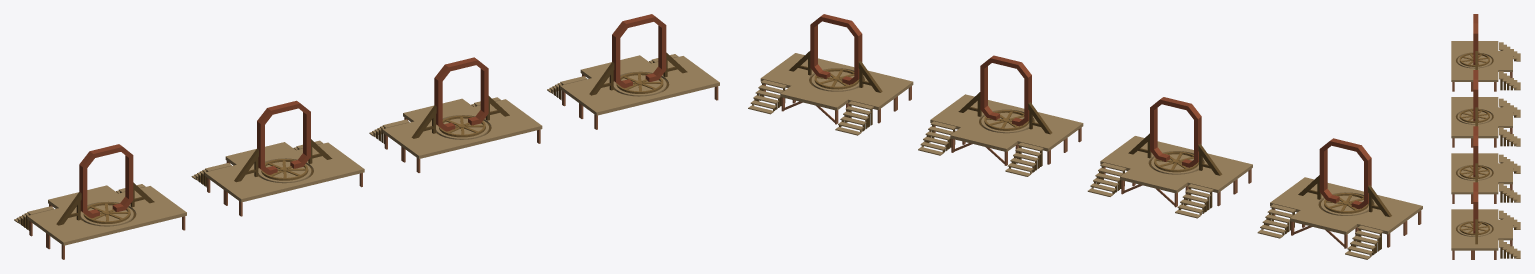
Rendered from D8_Teletransportation.fbx.
The picture shows the model from 3 angles, left to right: view 1: azimuth 30°, elevation 25°; view 2: azimuth 150°, elevation 25°; view 3: azimuth 270°, elevation 25°; orthographic projection. The views are drawn at different scales.
Visible parts, largest first — view 1: Plane.2024; view 2: Plane.2024; view 3: Plane.2024.
Part boxes in pixels (x1,y1,x2,y2): Plane.2024: (14, 14, 719, 259); Plane.2024: (748, 14, 1422, 259); Plane.2024: (1451, 14, 1520, 259).
Bounding box in the file's own units: 8575 × 1034 × 1217.
Materials: 1 (1 with a texture image).
